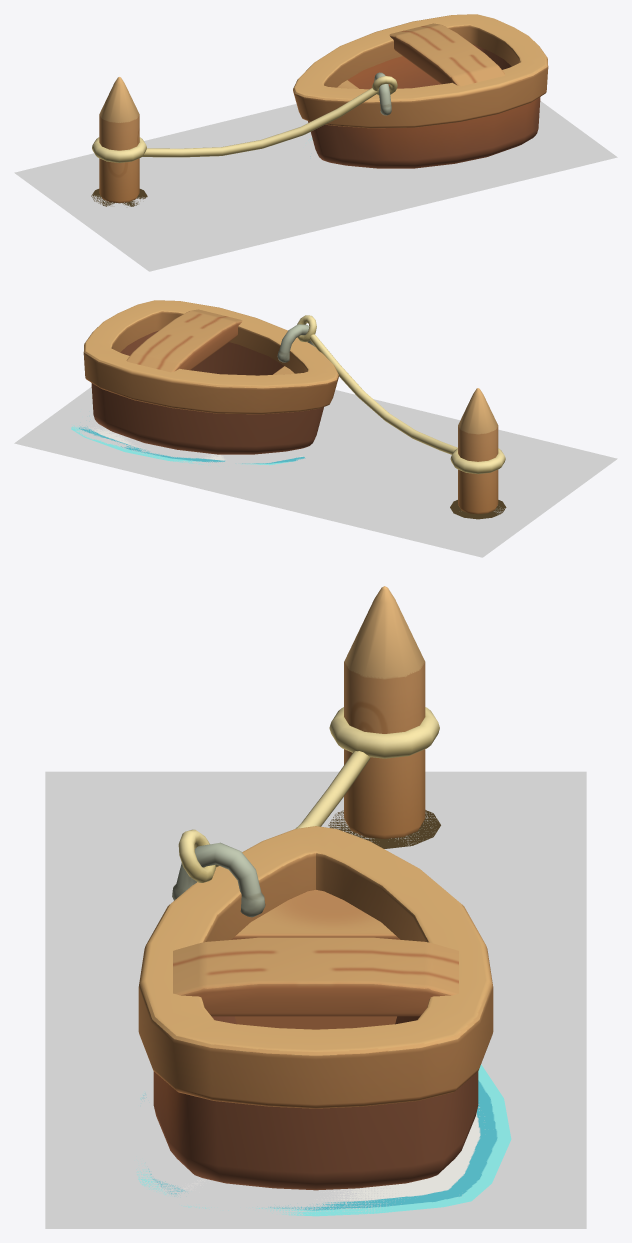
Rendered from VK_Boat.fbx.
3 views of the same model, one above another, from view 1: azimuth 30°, elevation 25°; view 2: azimuth 150°, elevation 25°; view 3: azimuth 270°, elevation 25° (orthographic). The views are drawn at different scales.
Parts seen in each view (by area): view 1: Boat_Grid_Large, polySurface8, polySurface4, polySurface1, Boat_Grid; view 2: Boat_Grid_Large, polySurface8, Boat_Grid, polySurface4, polySurface1, Shadow; view 3: Boat_Grid_Large, polySurface8, polySurface4, polySurface1, Shadow.
Part boxes in pixels (box(x1,y1,x2,y2)): Boat_Grid_Large: box(14, 101, 617, 271); polySurface8: box(293, 14, 548, 168); polySurface4: box(99, 77, 139, 203); polySurface1: box(92, 76, 397, 162); Boat_Grid: box(261, 133, 345, 203); Boat_Grid_Large: box(14, 387, 617, 557); polySurface8: box(71, 300, 338, 465); Boat_Grid: box(259, 419, 407, 489); polySurface4: box(458, 388, 498, 514); polySurface1: box(297, 315, 505, 474); Shadow: box(450, 500, 506, 519); Boat_Grid_Large: box(45, 771, 586, 1228); polySurface8: box(136, 826, 511, 1216); polySurface4: box(344, 586, 425, 839); polySurface1: box(178, 707, 439, 882); Shadow: box(328, 810, 440, 848).
Size of the model in its own units: 4 by 0.9754 by 2.
